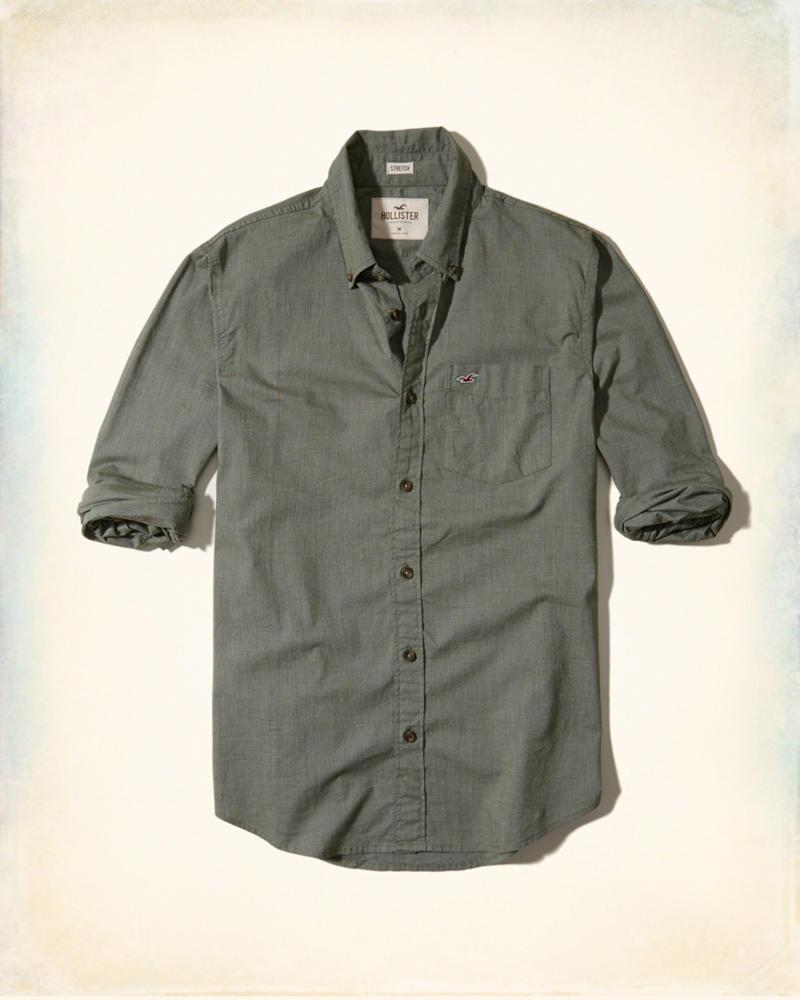teeshirt: (49, 125, 739, 881)
